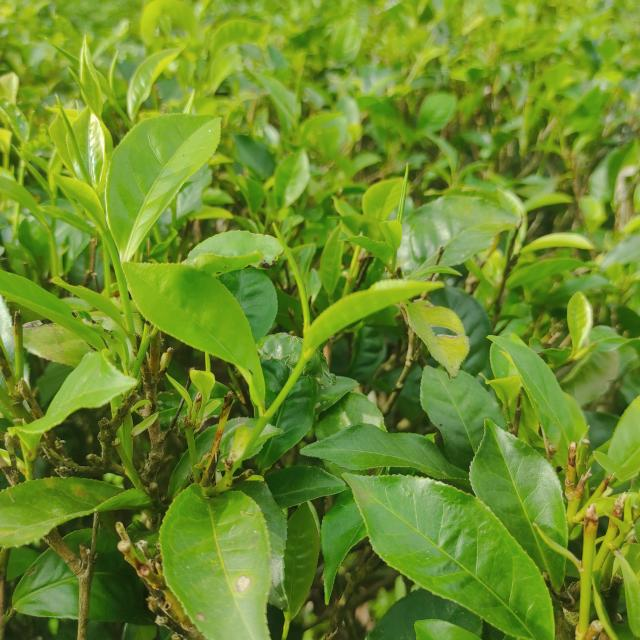unopened_leaf: (264, 216, 325, 338), (49, 86, 96, 192), (530, 519, 587, 571), (64, 65, 108, 123), (392, 156, 418, 220), (161, 370, 195, 415), (103, 46, 124, 109), (18, 106, 40, 150)
